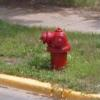Hydrant: (33, 21, 78, 79)
